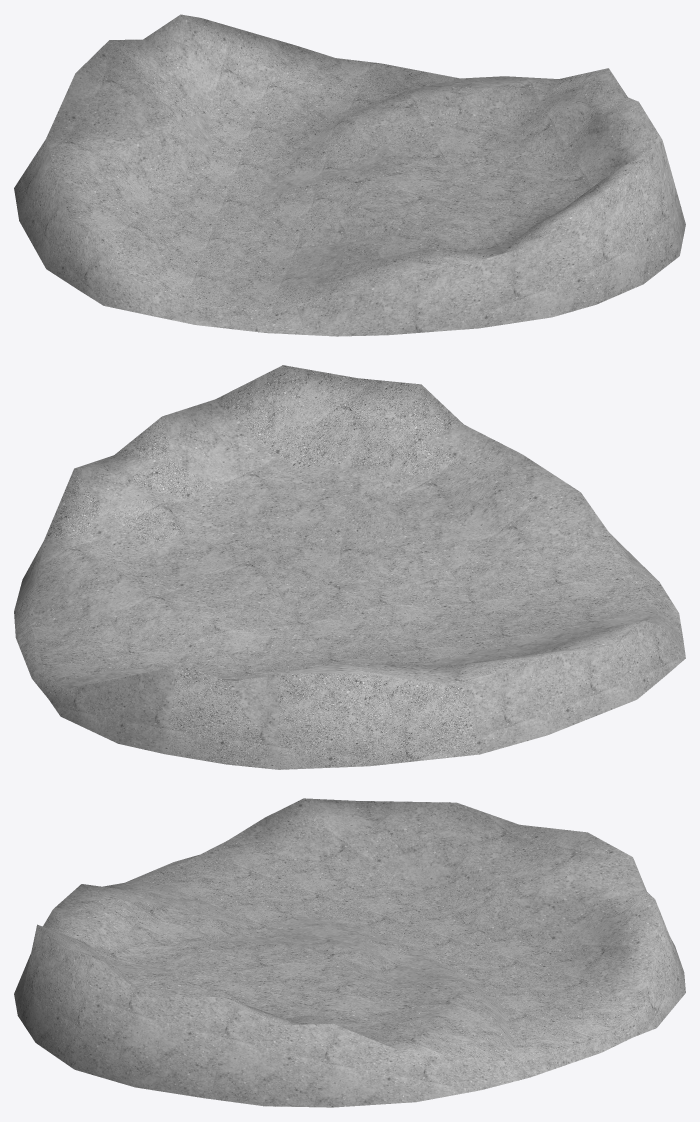
The model's file is together-shovel.glb.
3 views of the same model, one above another, from view 1: azimuth 30°, elevation 25°; view 2: azimuth 150°, elevation 25°; view 3: azimuth 270°, elevation 25° (orthographic). The views are drawn at different scales.
Parts seen in each view (by area): view 1: ground; view 2: ground; view 3: ground.
Boxes of the visible parts, x1,y1,x2,y2 form: ground: [14, 14, 685, 336]; ground: [14, 365, 685, 769]; ground: [14, 798, 685, 1107].
Size of what is drawn, in the model's own units: 43.45 by 7.84 by 45.43.
1 material, 1 textured.
